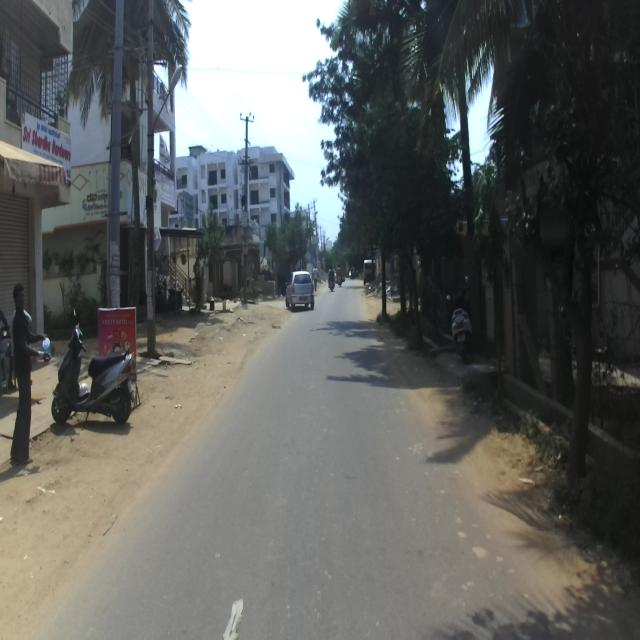electric pole ahead at: (105, 0, 127, 306)
motorcycle ahead at: (54, 307, 140, 432), (442, 274, 472, 358)
person ahead at: (4, 278, 40, 470)
tree ahead at: (542, 38, 632, 486)
